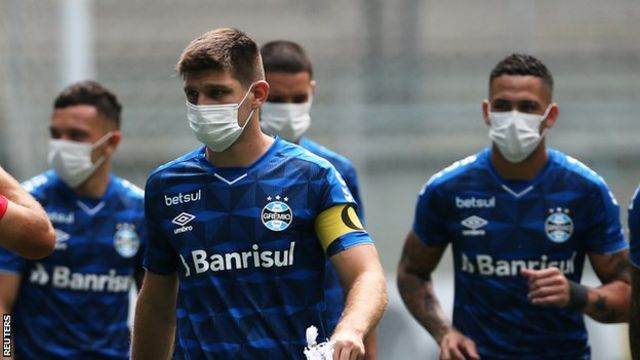with_mask: (187, 73, 238, 148), (52, 114, 91, 189), (491, 90, 541, 146), (265, 80, 308, 133)
